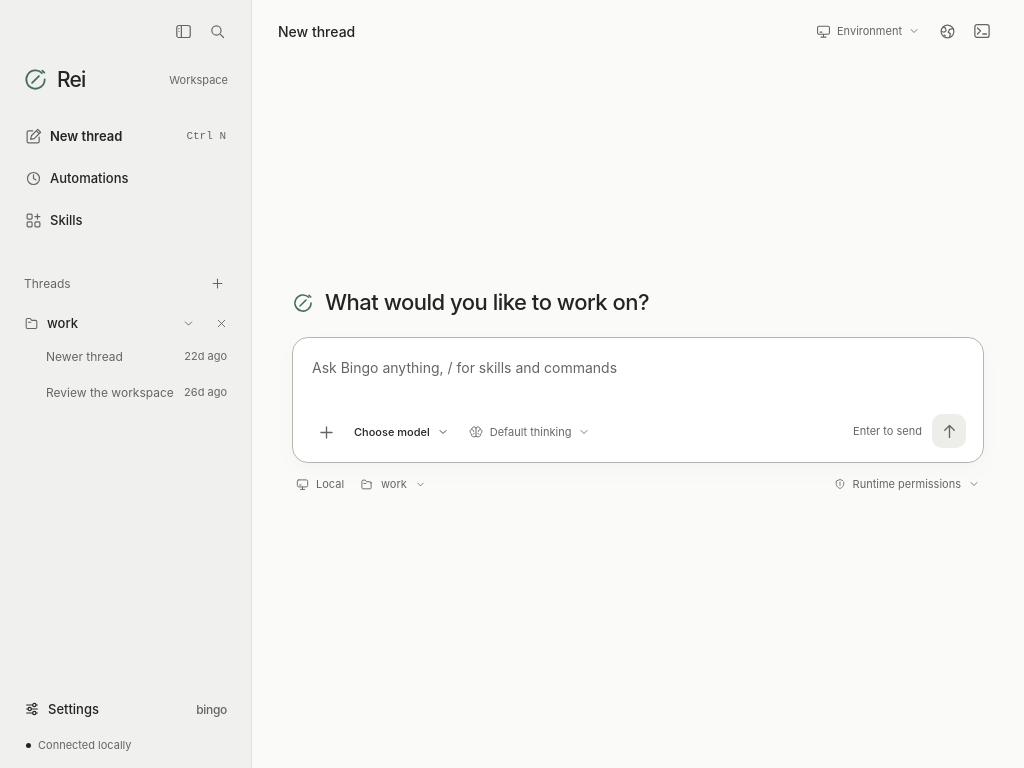
Test: desktop user journeys › keeps sidebar rows in creation order when an older thread is opened or updated
Check: the text "Connected locally" is shown, box [38,738,132,752]
Check: the button named "Send message" is disabled, box [932,414,966,448]
What coordinates should you click on to do the following:
click the button "Review the workspace"
I would click on:
 (126, 392)
Its box is [14,375,237,409].
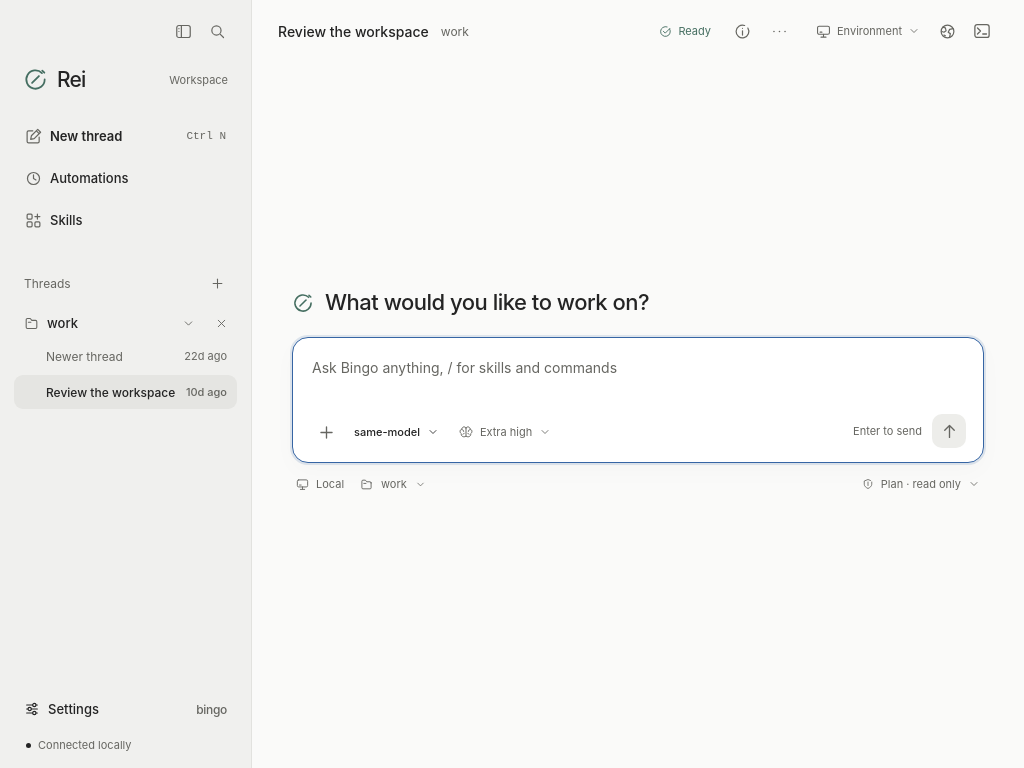
Check: the text with class "session-row-title" reads "Review the workspace", box [46,384,175,400]
Check: the heading "Review the workspace" is shown, box [278,22,429,40]
